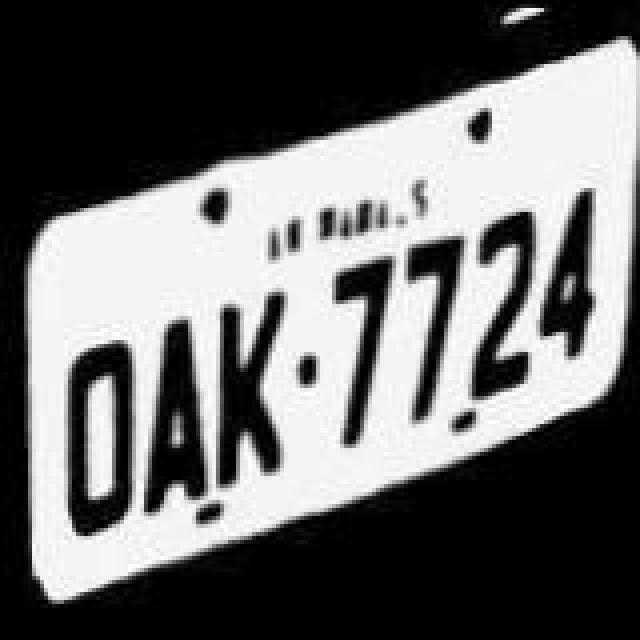2: (466, 200, 538, 404)
4: (534, 170, 602, 366)
7: (324, 248, 400, 452), (402, 228, 466, 428)
A: (142, 308, 218, 524)
K: (208, 286, 296, 498)
O: (42, 326, 142, 546)
